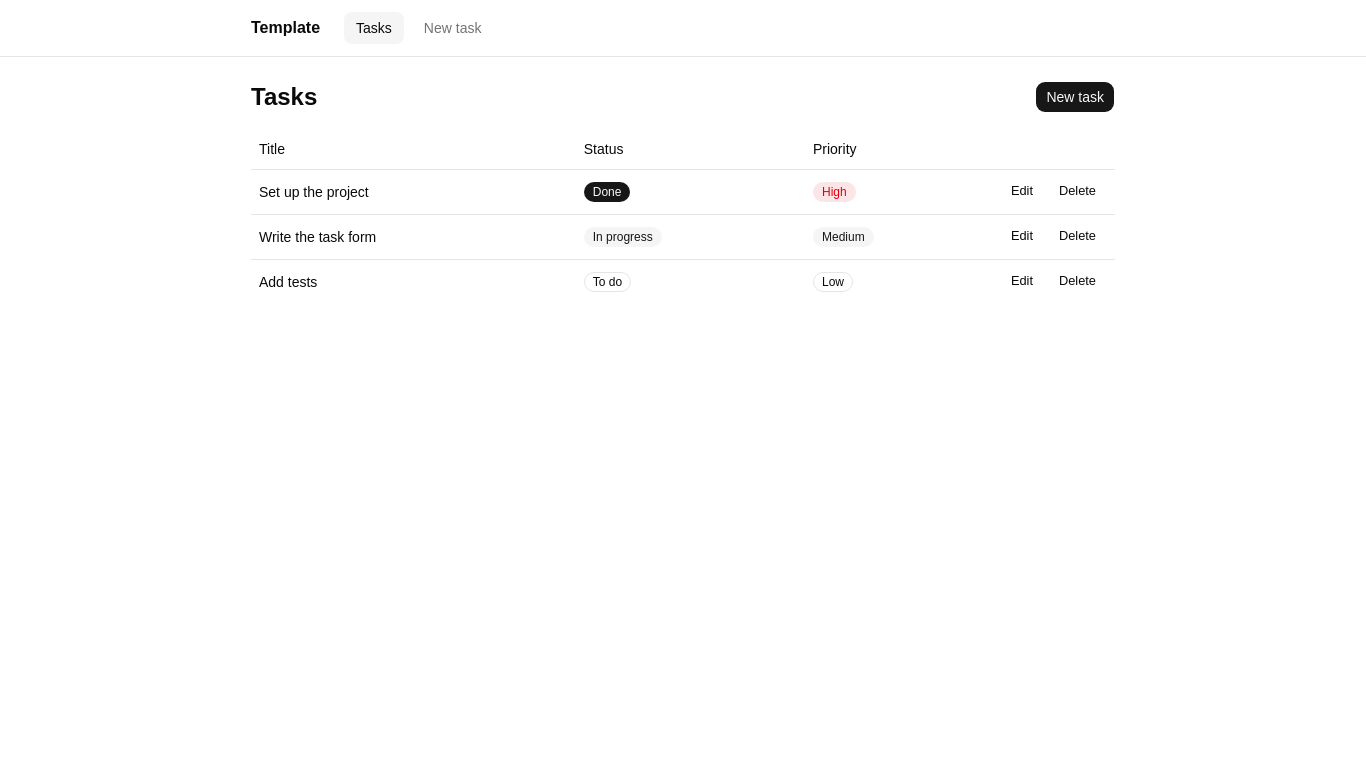
TasksPage › deletes a task after confirmation and refreshes the list
Expected: the text "Add tests" is shown, [251,259,576,304]
Click the button "Delete" in the row of "Add tests" at (1078, 282), box [1048,268,1107,296]
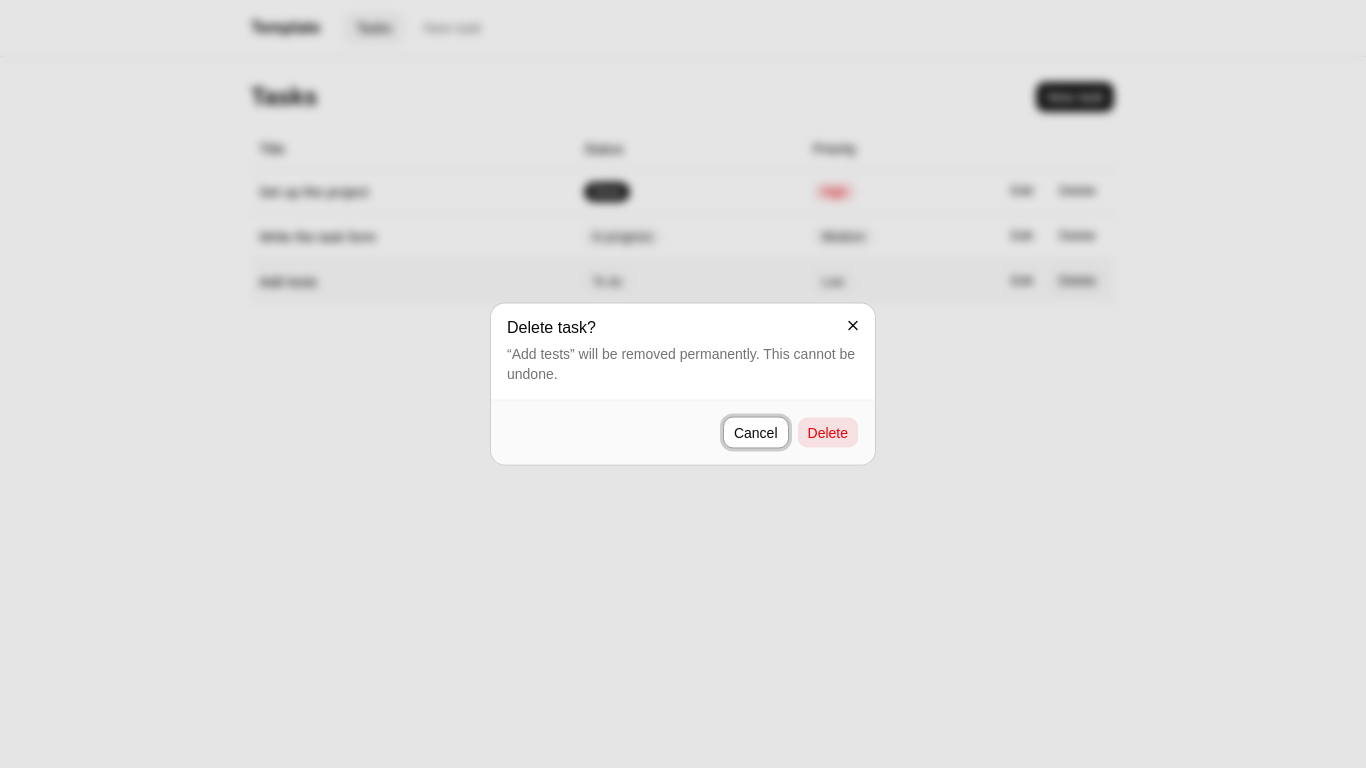
Click the button "Delete" at (828, 432), box [796,416,859,448]
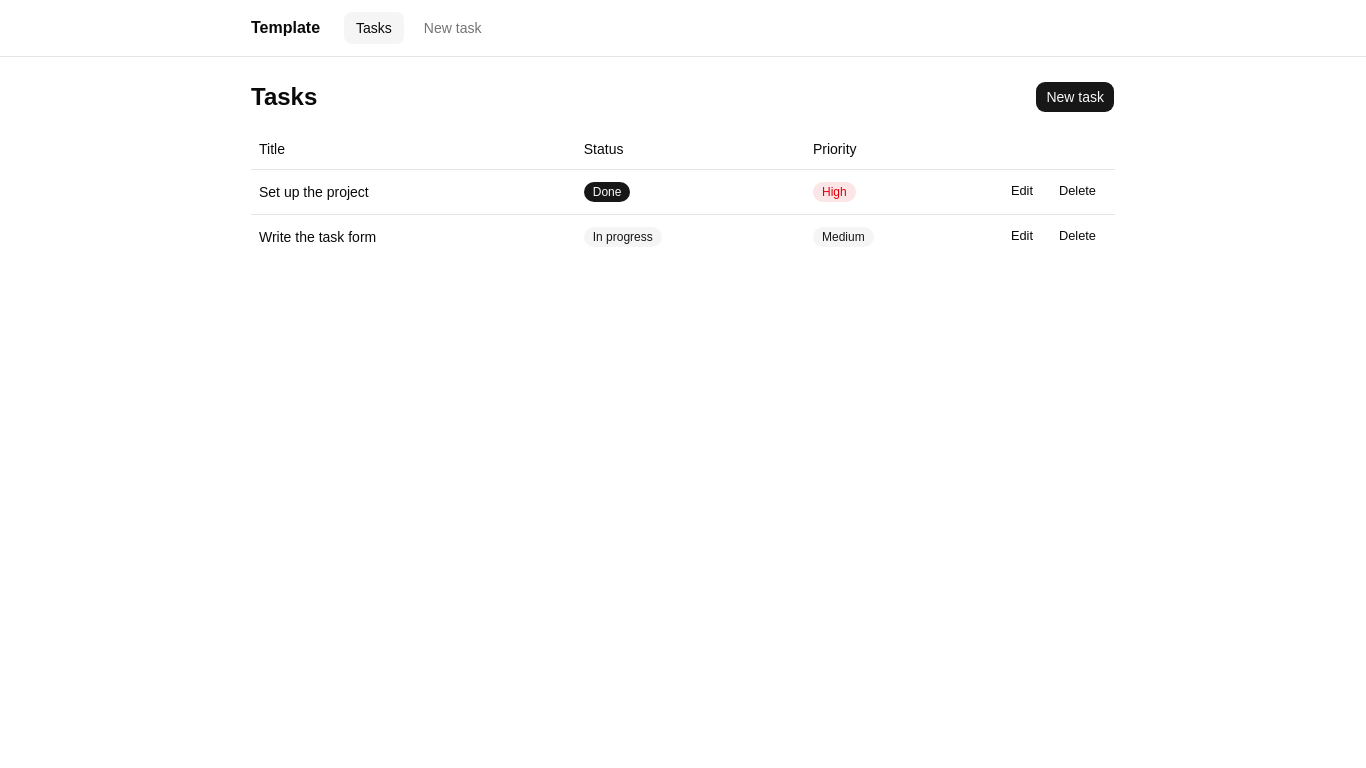
Expected: the number of rows is 3, [251,129,1115,169]; [251,169,1115,214]; [251,214,1115,258]
Expected: the text "Add tests" is gone
